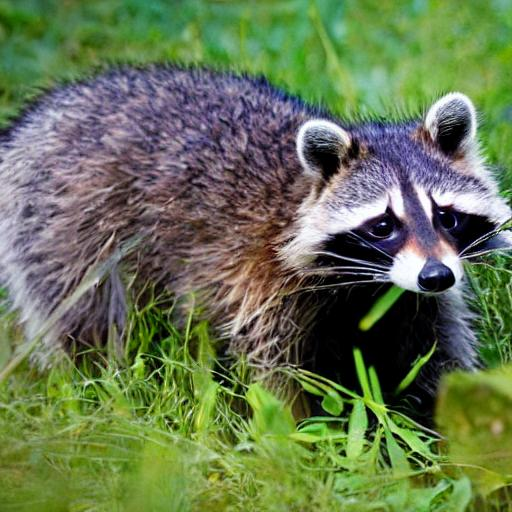raccoon: (0, 48, 512, 462)
